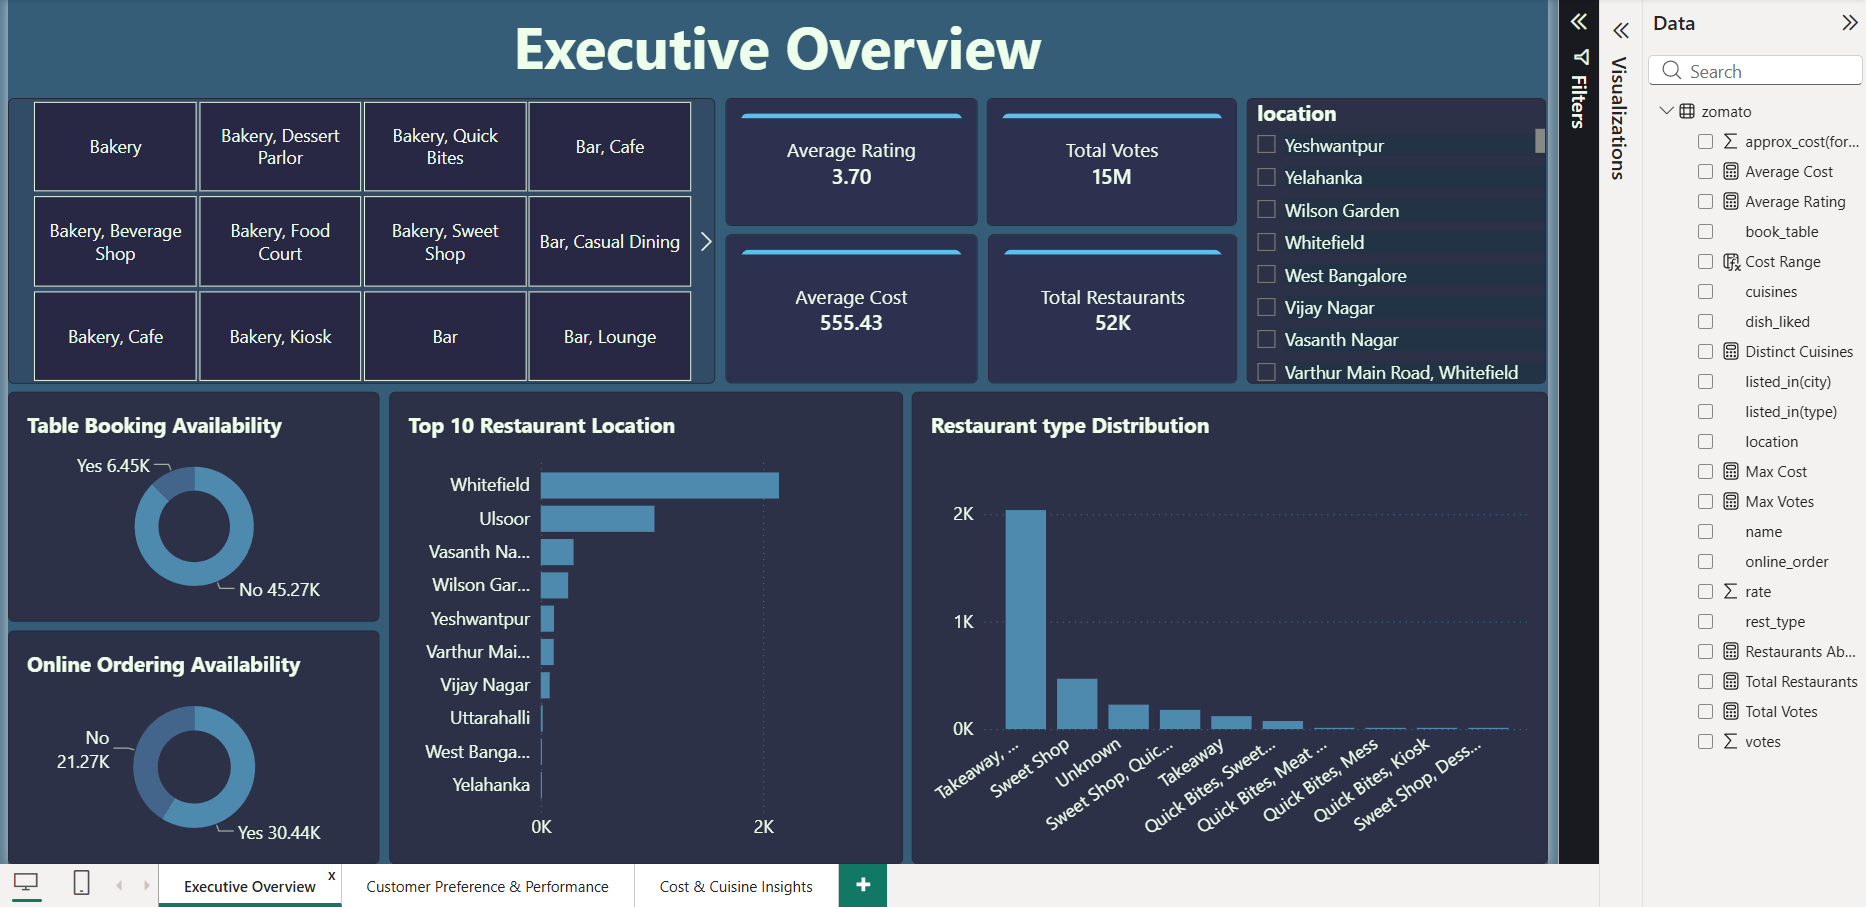

The page's visual inventory and layout, read from the dashboard file:
{"tool":"powerbi","page":{"name":"Executive Overview","canvas":[1280,720],"ordinal":0},"visuals":[{"type":"cardVisual","fields":{"Data":["zomato.Average Cost"]},"box":[596.1,196.6,209.2,124.1],"z":0},{"type":"cardVisual","fields":{"Data":["zomato.Total Restaurants"]},"box":[814.8,196.6,207.1,124.1],"z":1000},{"type":"cardVisual","fields":{"Data":["zomato.Total Votes"]},"box":[813.8,83.1,208.2,106.2],"z":2000},{"type":"cardVisual","fields":{"Data":["zomato.Average Rating"]},"box":[596.1,83.1,209.2,106.2],"z":3000},{"type":"slicer","fields":{"Values":["zomato.location"]},"box":[1030.4,83.1,249.2,237.6],"z":4000},{"type":"slicer","fields":{"Values":["zomato.rest_type"]},"box":[0,83.1,587.7,237.6],"z":5000},{"type":"barChart","title":"Top 10 Restaurant Location","fields":{"Category":["zomato.location"],"Y":["CountNonNull(zomato.name)"]},"box":[317,327.4,427.1,392.8],"z":6000},{"type":"columnChart","title":"Restaurant type Distribution","fields":{"Category":["zomato.rest_type"],"Y":["CountNonNull(zomato.name)"]},"box":[751.4,327.4,529,392.8],"z":7000},{"type":"donutChart","title":"Online Ordering Availability","fields":{"Category":["zomato.online_order"],"Y":["CountNonNull(zomato.name)"]},"box":[0,525.9,308.7,194.3],"z":8000},{"type":"donutChart","title":"Table Booking Availability","fields":{"Category":["zomato.book_table"],"Y":["CountNonNull(zomato.name)"]},"box":[0,327.4,308.7,191.2],"z":9000},{"type":"textbox","box":[0,7.3,1279.3,68.6],"z":10000}]}

Visuals, with their boxes on the page's 1280x720 design canvas (x1, y1, x2, y2). These are canvas units, not pixel positions in the 1866x907 screenshot, which may show the page scaled, cropped or inside an application window:
cardVisual - zomato.Average Cost: 596,197,805,321
cardVisual - zomato.Total Restaurants: 815,197,1022,321
cardVisual - zomato.Total Votes: 814,83,1022,189
cardVisual - zomato.Average Rating: 596,83,805,189
slicer - zomato.location: 1030,83,1280,321
slicer - zomato.rest_type: 0,83,588,321
"Top 10 Restaurant Location" barChart: 317,327,744,720
"Restaurant type Distribution" columnChart: 751,327,1280,720
"Online Ordering Availability" donutChart: 0,526,309,720
"Table Booking Availability" donutChart: 0,327,309,519
textbox: 0,7,1279,76
